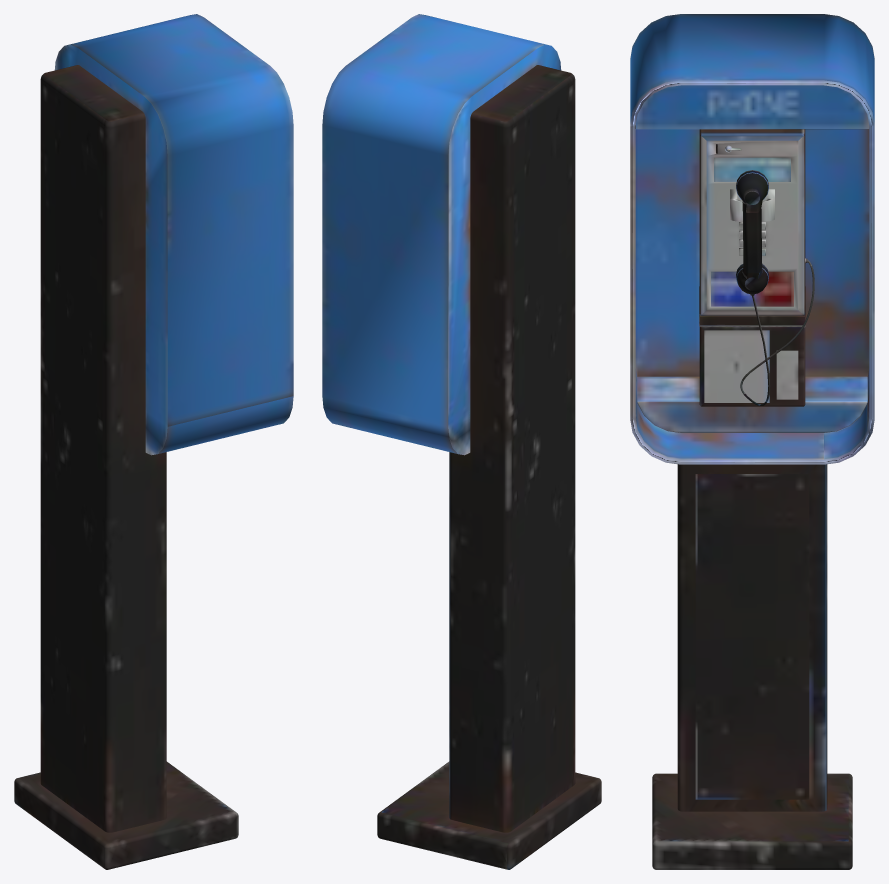
Rendered from payphone.glb.
3 views of the same model, side by side, from view 1: azimuth 30°, elevation 25°; view 2: azimuth 150°, elevation 25°; view 3: azimuth 270°, elevation 25° (orthographic). The views are drawn at different scales.
Visible parts, largest first — view 1: Sweep; view 2: Sweep; view 3: Sweep.
Boxes of the visible parts, x1,y1,x2,y2 form: Sweep: (14, 14, 293, 869); Sweep: (322, 14, 601, 869); Sweep: (630, 14, 874, 869).
Size of the model in its own units: 0.3862 by 1.56 by 0.4261.
Materials: 1 (1 with a texture image).
